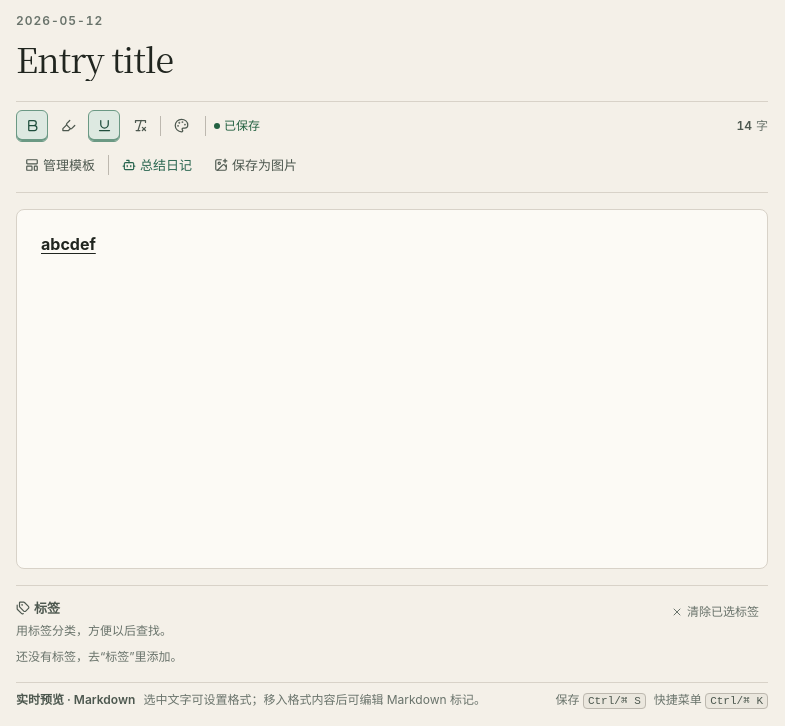
Test: Editor live preview contracts › rejects unsafe nested partial clear with a visible notice and no document/history changes
Click the button named "清除格式": (140, 126) [124, 110, 156, 142]
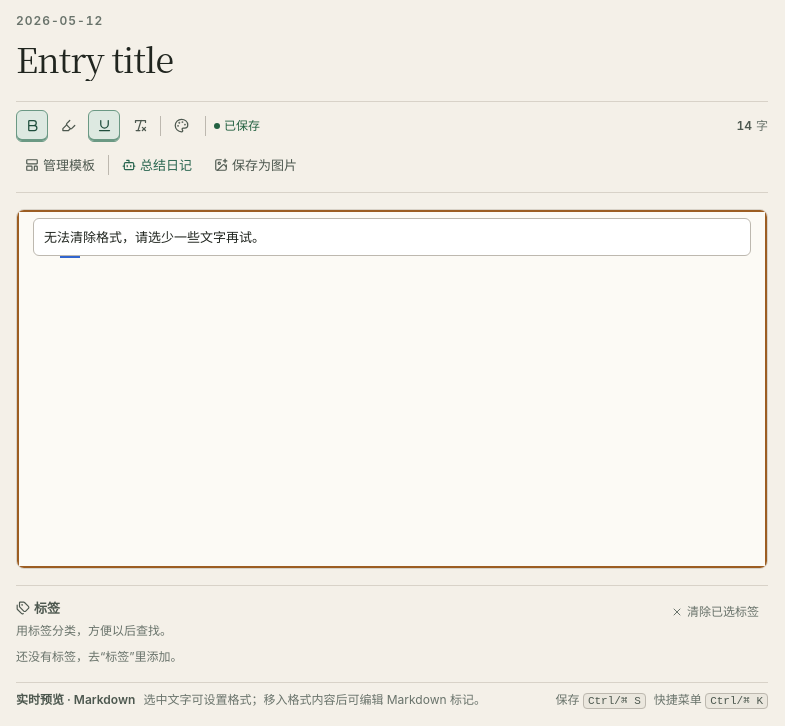
Now the text "无法清除格式，请选少一些文字再试。" is shown, box [33, 218, 751, 256]
